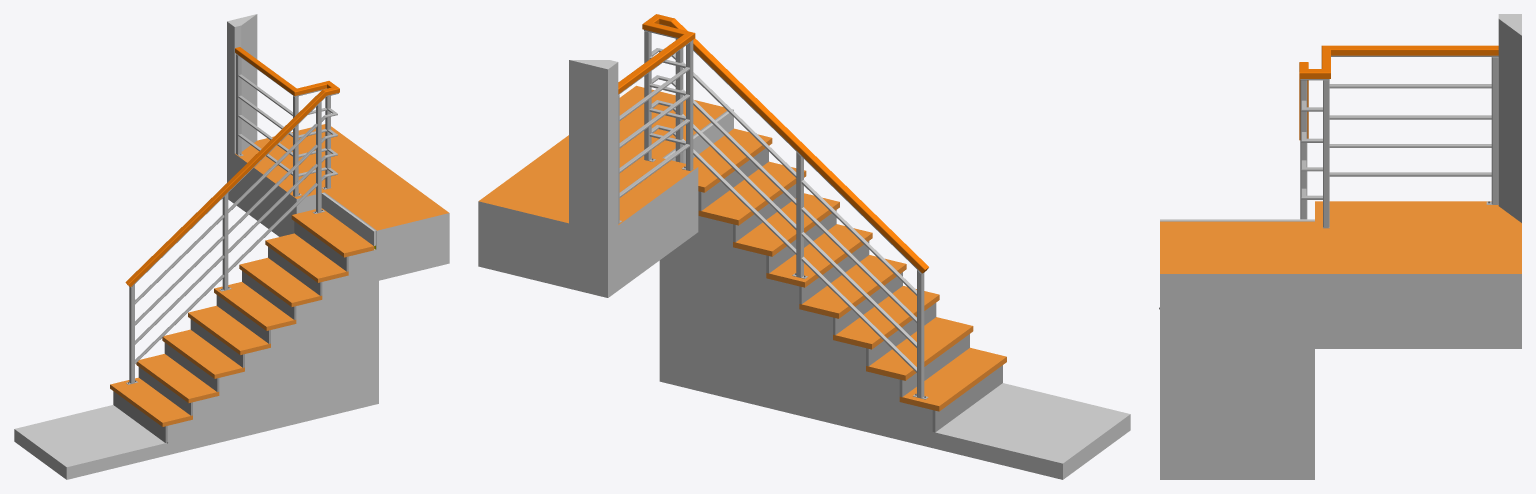
Rendered from Ограждение.obj.
3 renders of one model, left to right at view 1: azimuth 30°, elevation 25°; view 2: azimuth 150°, elevation 25°; view 3: azimuth 270°, elevation 25°, orthographic. The views are drawn at different scales.
Bounding box in the file's own units: 3.8 × 2.84 × 2.11.
